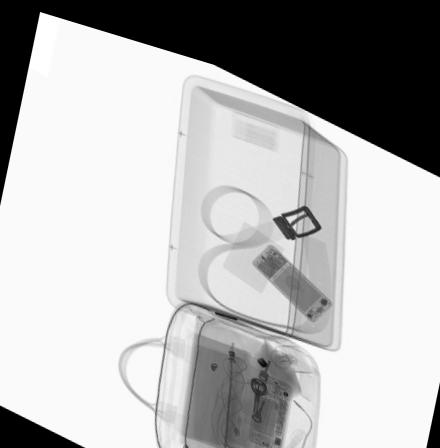Lighter: (244, 429, 284, 448)
